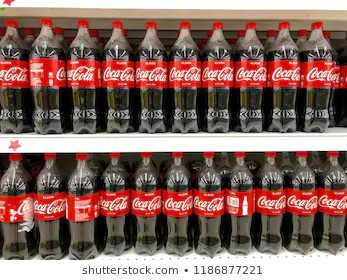coke-bottle-2l: (28, 17, 66, 135), (266, 17, 303, 132), (166, 18, 203, 132), (66, 17, 101, 135), (101, 16, 135, 133), (133, 20, 167, 135), (304, 18, 337, 132), (33, 152, 68, 259), (66, 154, 102, 258), (284, 151, 319, 257), (236, 18, 268, 132), (203, 18, 234, 135), (251, 152, 287, 252), (193, 151, 226, 258), (1, 20, 31, 133), (131, 151, 163, 255), (226, 150, 257, 255), (164, 150, 193, 257), (99, 152, 129, 253), (317, 151, 344, 255)
